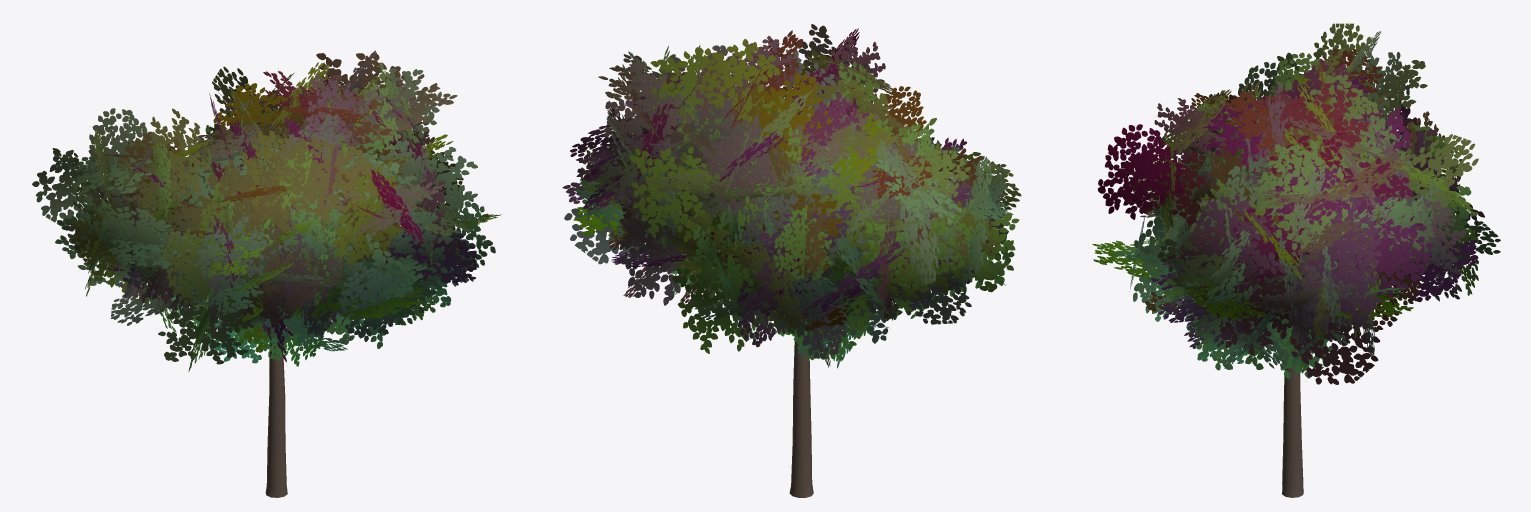
File: tree_small_broadleaf_v3_filler_a.glb
The picture shows the model from 3 angles, left to right: view 1: azimuth 30°, elevation 25°; view 2: azimuth 150°, elevation 25°; view 3: azimuth 270°, elevation 25°; orthographic projection. The views are drawn at different scales.
Parts seen in each view (by area): view 1: SmallBroadleafV3Filler_balanced_Foliage_8MacroGroups, SmallBroadleafV3Filler_balanced_Trunk_Stylized; view 2: SmallBroadleafV3Filler_balanced_Foliage_8MacroGroups, SmallBroadleafV3Filler_balanced_Trunk_Stylized; view 3: SmallBroadleafV3Filler_balanced_Foliage_8MacroGroups, SmallBroadleafV3Filler_balanced_Trunk_Stylized.
Part boxes in pixels (x1=…): SmallBroadleafV3Filler_balanced_Foliage_8MacroGroups: x1=32, y1=50, x2=501, y2=371; SmallBroadleafV3Filler_balanced_Trunk_Stylized: x1=265, y1=340, x2=287, y2=497; SmallBroadleafV3Filler_balanced_Foliage_8MacroGroups: x1=562, y1=24, x2=1021, y2=368; SmallBroadleafV3Filler_balanced_Trunk_Stylized: x1=789, y1=338, x2=813, y2=497; SmallBroadleafV3Filler_balanced_Foliage_8MacroGroups: x1=1092, y1=23, x2=1500, y2=384; SmallBroadleafV3Filler_balanced_Trunk_Stylized: x1=1282, y1=349, x2=1303, y2=497.
Bounding box in the file's own units: 6.22 × 6.13 × 5.56.
Materials: 2 (1 with a texture image).
